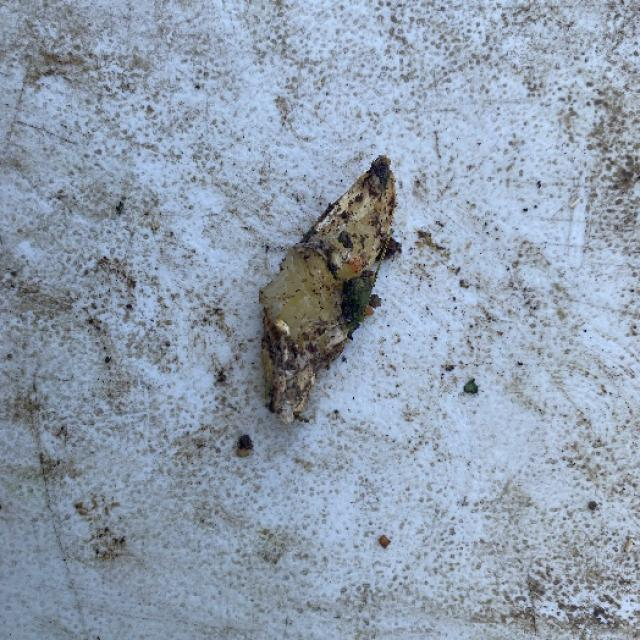organik: (262, 168, 408, 422)
